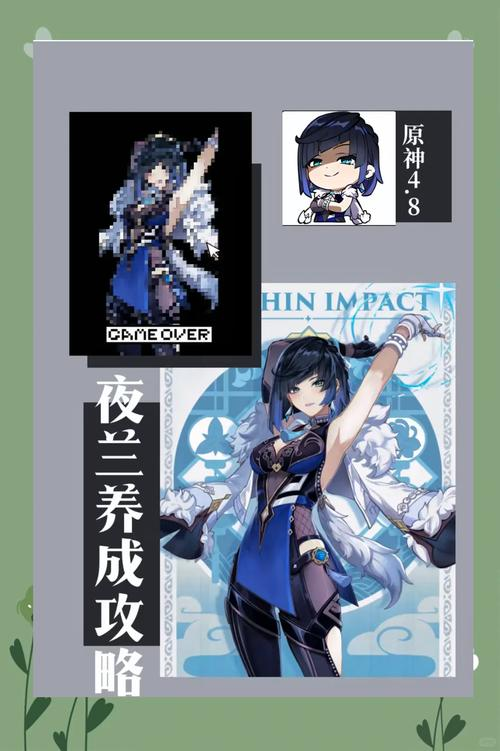夜兰: (222, 309, 450, 676), (82, 116, 232, 327), (289, 115, 383, 225)
